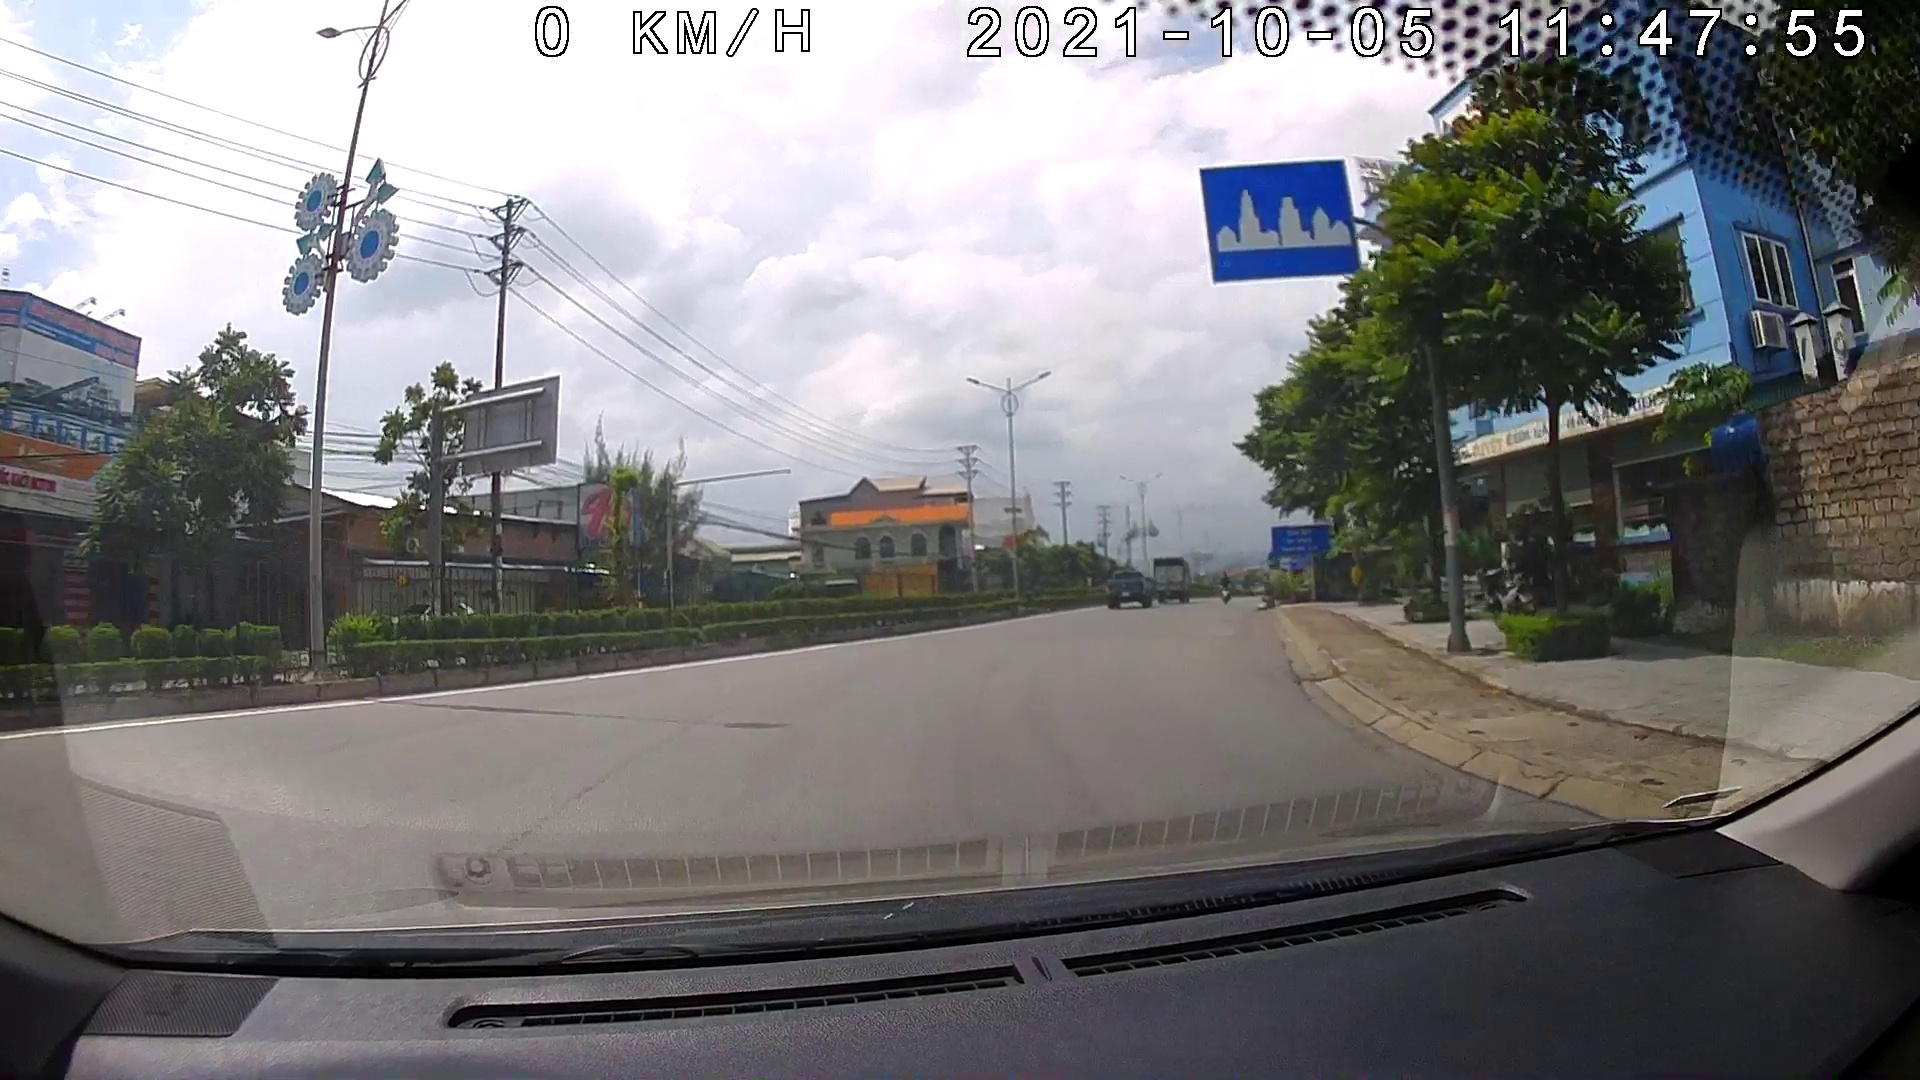Bien khac: (1197, 157, 1362, 285)
